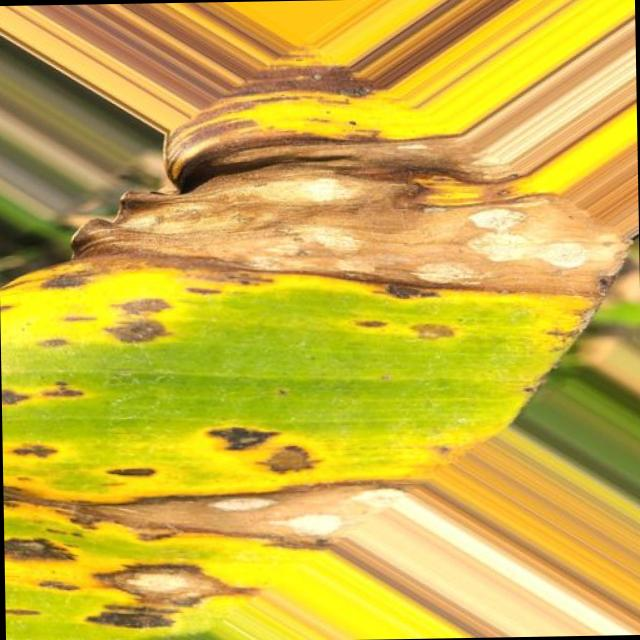Banana_Black_Sigatoka: (90, 62, 605, 324), (0, 326, 362, 640)
